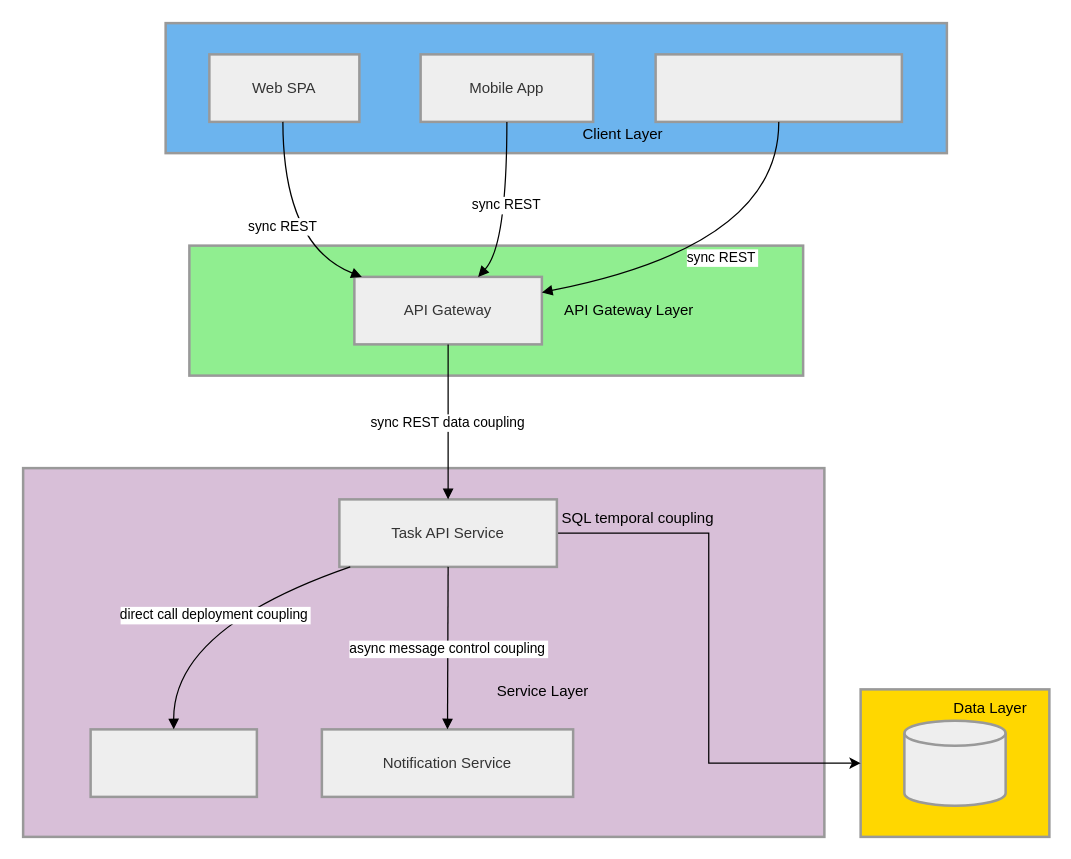
Some shapes in this 1071 by 859 pixel diagram are drawn without their labels. The shapes that lost their labels are listed below. From the top down, each one's centre as x and y in pixels, then its label:
At (x=778, y=87): "Partner Integration".
At (x=173, y=763): "Task Store".
At (x=954, y=762): "Database".
